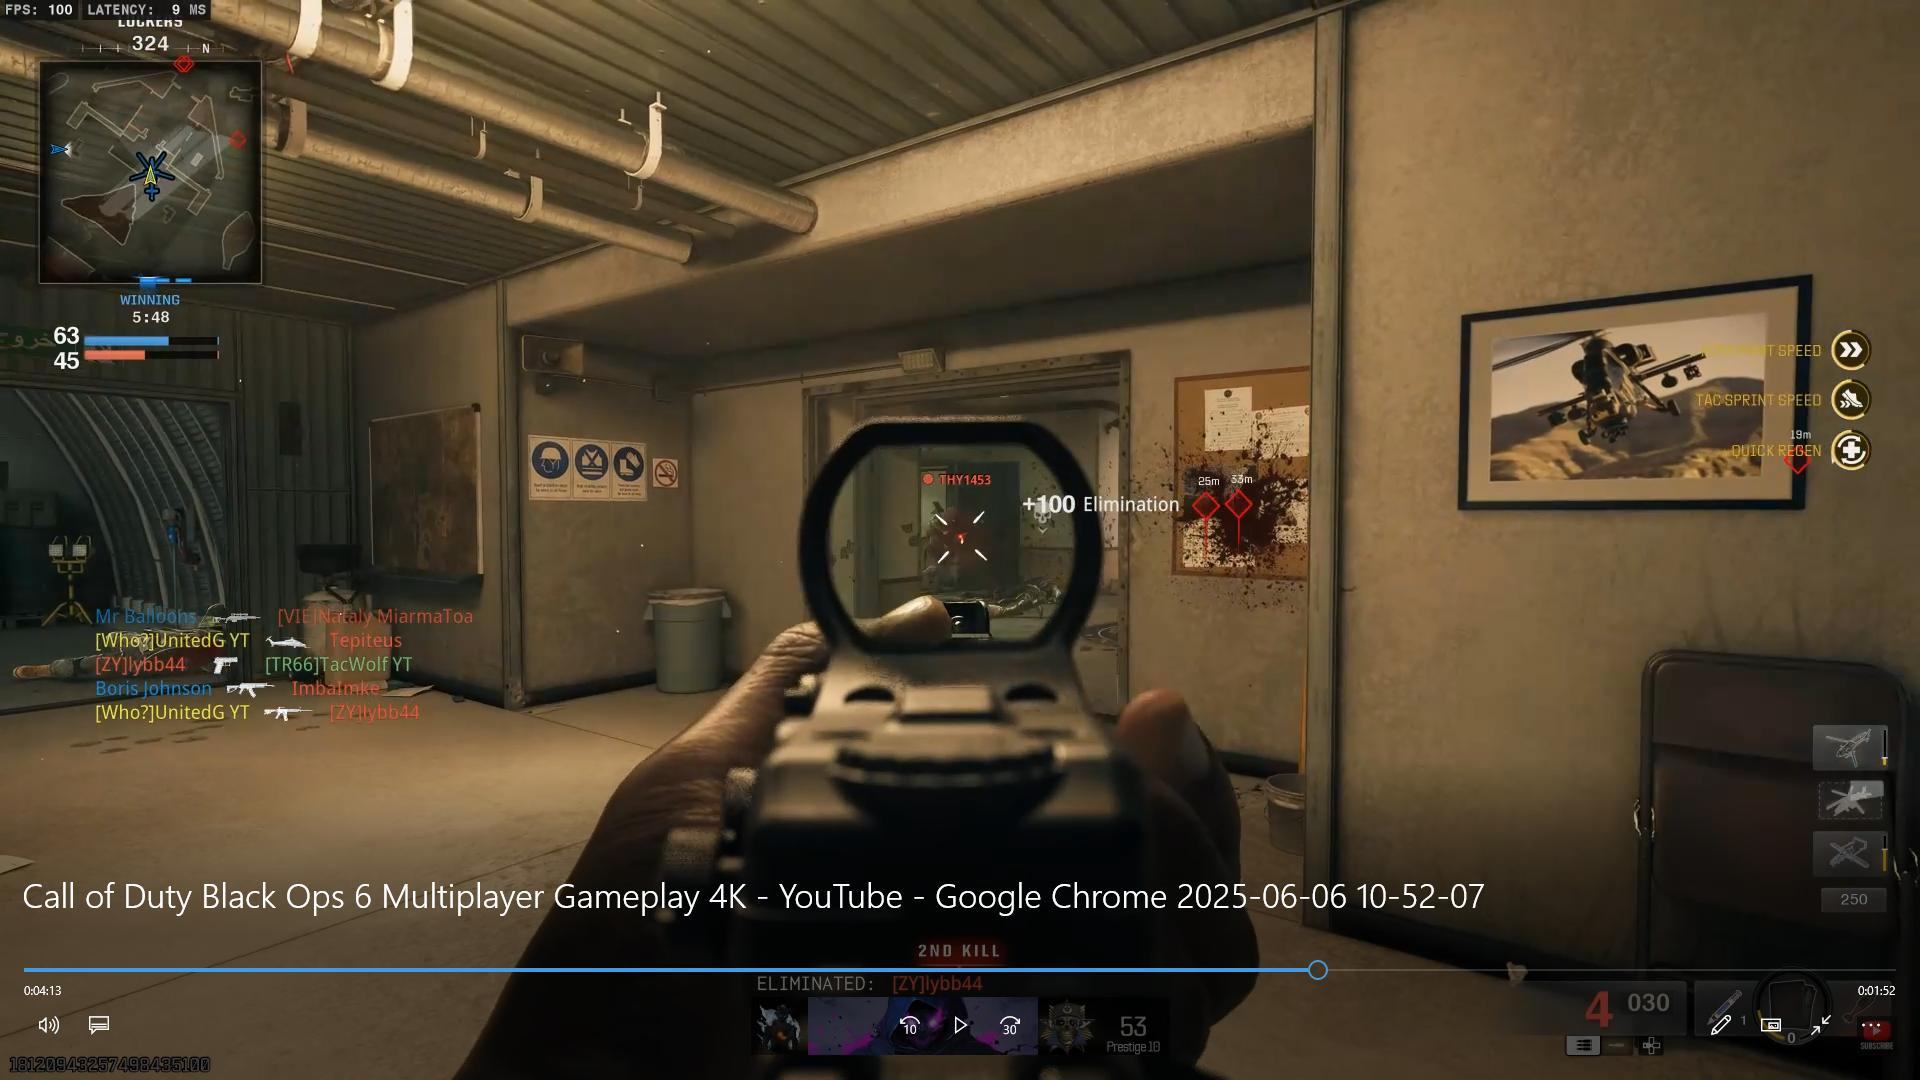Enemy: (913, 459, 994, 599)
